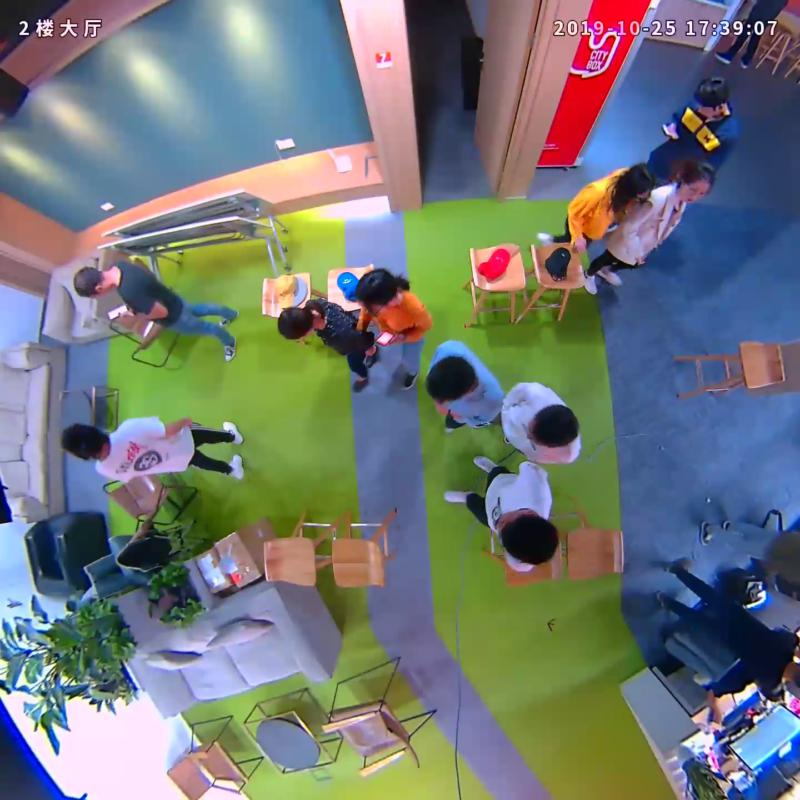head: (495, 510, 558, 566), (424, 355, 475, 404), (527, 404, 579, 449), (354, 269, 401, 310), (677, 159, 715, 205), (61, 423, 107, 461), (694, 76, 729, 117), (277, 305, 313, 340), (74, 265, 111, 299), (621, 163, 653, 201)
